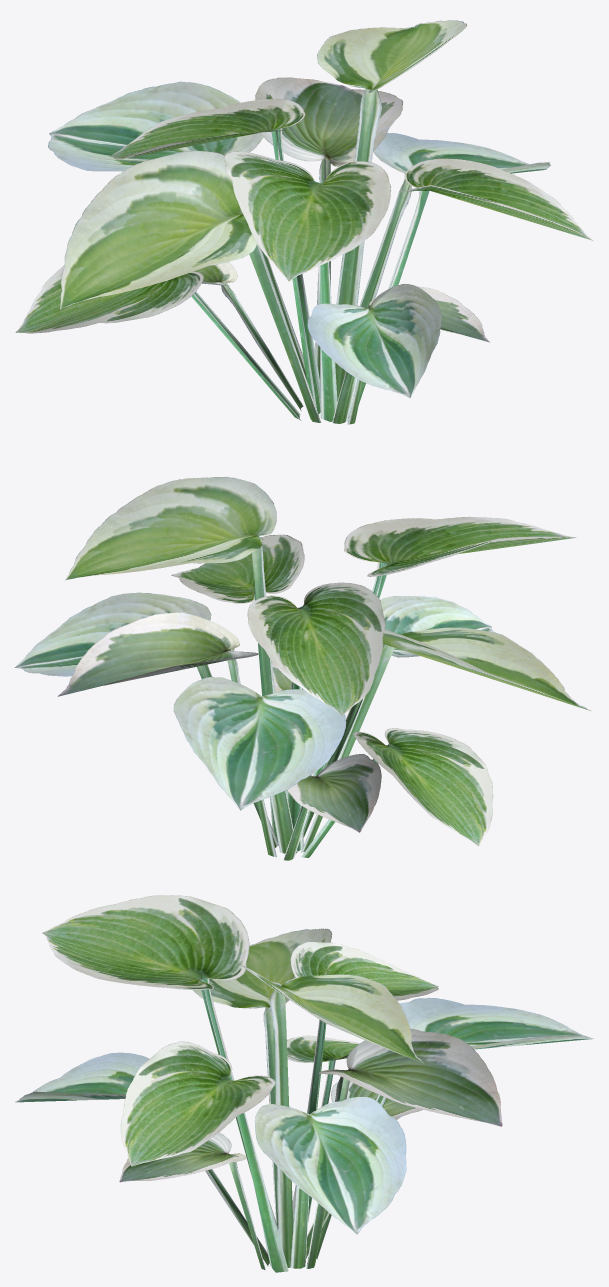
File: plant_small_wg_00Y.fbx
The picture shows the model from 3 angles, top to bottom: view 1: azimuth 30°, elevation 25°; view 2: azimuth 150°, elevation 25°; view 3: azimuth 270°, elevation 25°; orthographic projection. The views are drawn at different scales.
Parts seen in each view (by area): view 1: plant_small_wg_00Y; view 2: plant_small_wg_00Y; view 3: plant_small_wg_00Y.
Part boxes in pixels (x1=…): plant_small_wg_00Y: x1=15, y1=20, x2=592, y2=424; plant_small_wg_00Y: x1=14, y1=477, x2=590, y2=860; plant_small_wg_00Y: x1=15, y1=895, x2=593, y2=1272.
Size of the model in its own units: 73.92 by 47.64 by 72.76.
Materials: 1 (1 with a texture image).
